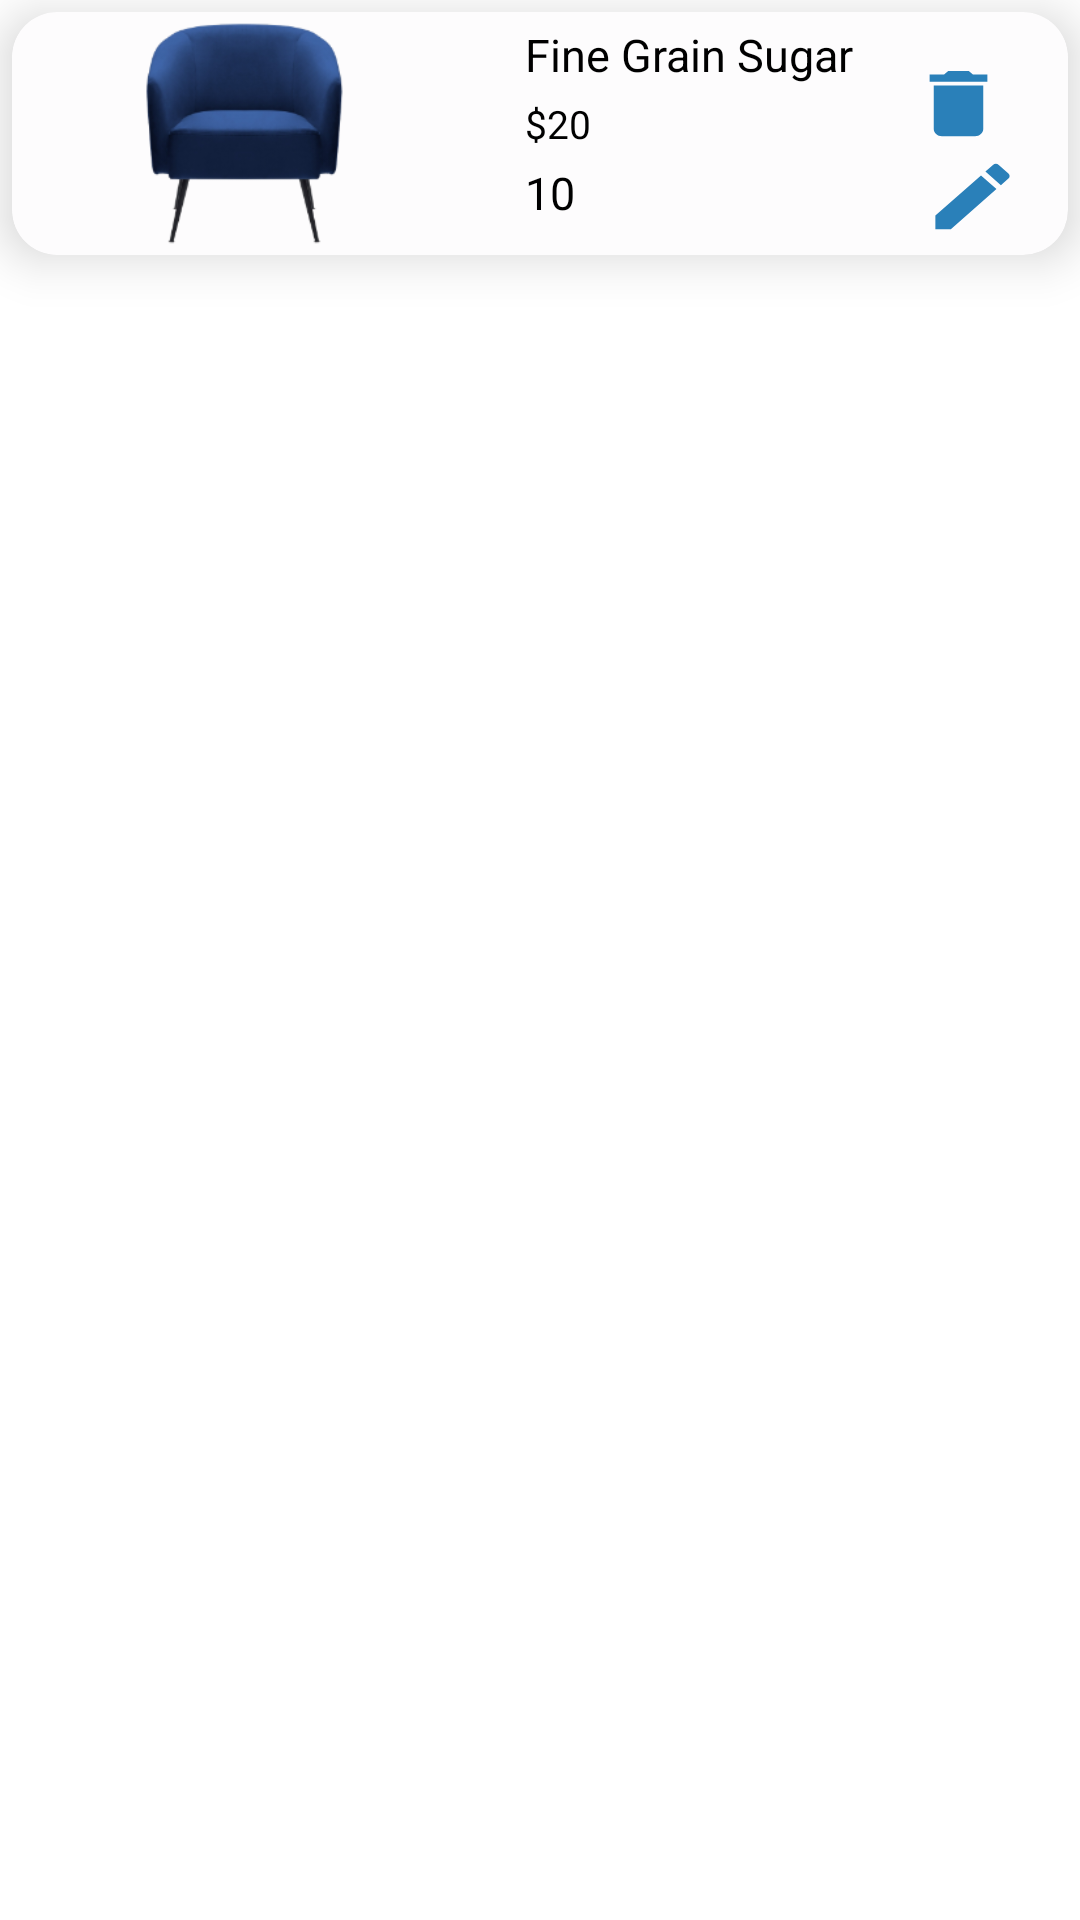

Icons on this 1080px x 1920px Android screen, each with its box as (x1, y1, x2, y2):
delete: (929, 71, 988, 137)
edit: (935, 163, 1010, 230)
